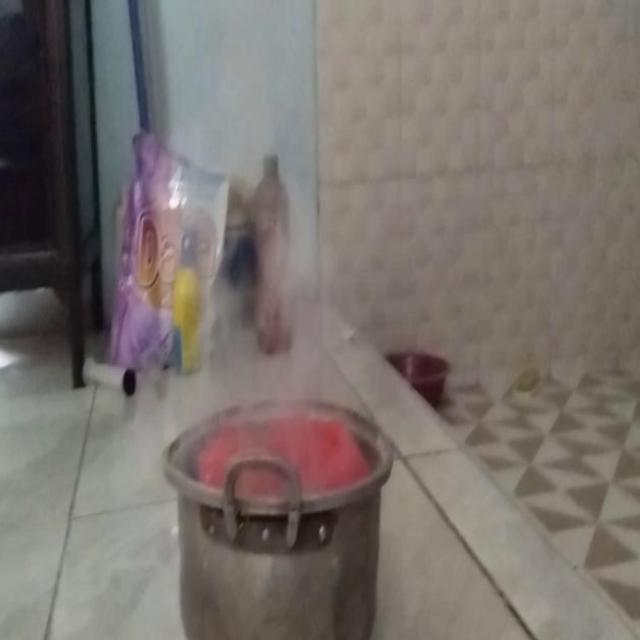fire: (171, 210, 334, 420)
